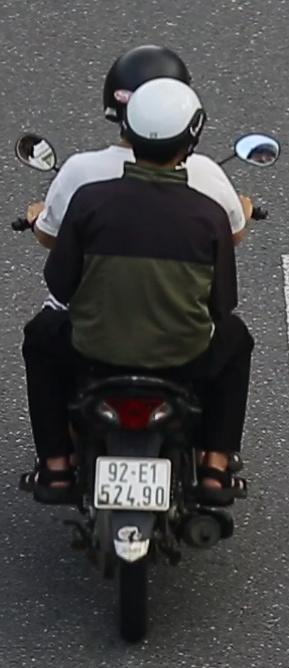LP: (92, 453, 173, 517)
helmet: (122, 77, 207, 190), (100, 40, 174, 112)
